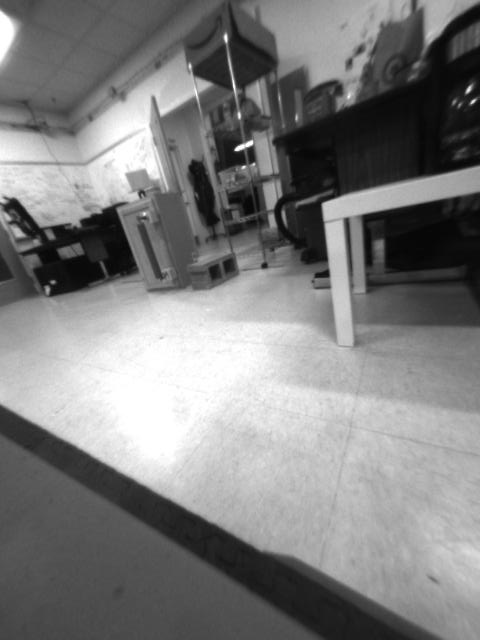coffee_pot: (434, 4, 480, 169)
